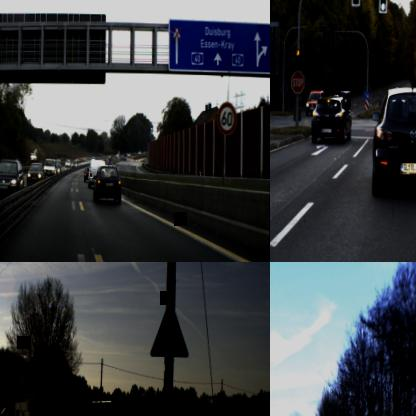SNOW: (149, 299, 189, 357)
STOP: (290, 70, 304, 93)
keep right: (364, 90, 370, 100)
priority at next intersection: (42, 402, 50, 412)
speed limit 60: (216, 101, 236, 135)
